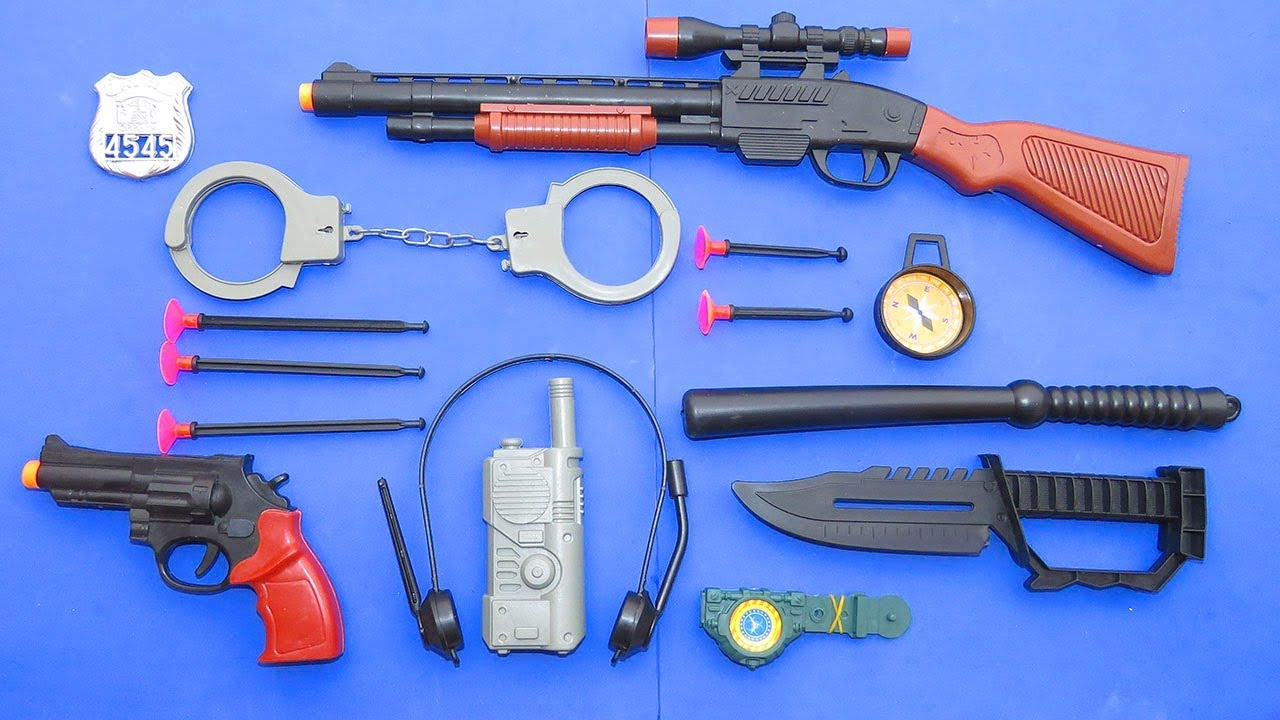Arma Falsa: (293, 14, 1198, 281), (17, 427, 352, 674)
